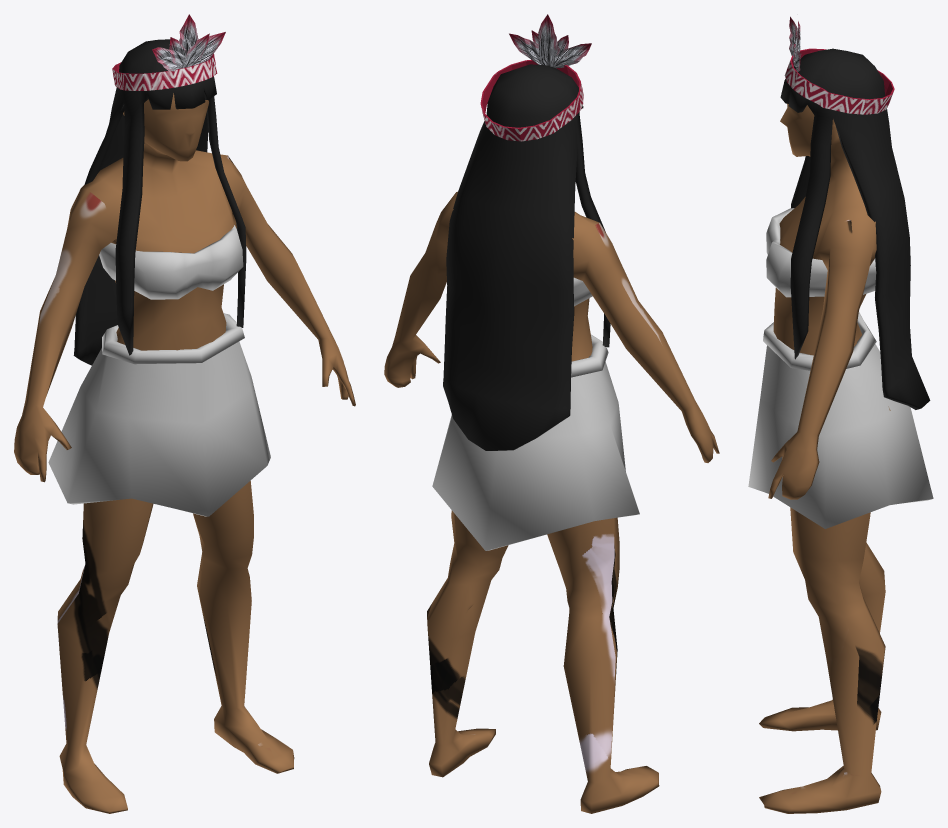
The model's file is indigena_Breninha123 (1).fbx.
3 renders of one model, left to right at view 1: azimuth 30°, elevation 25°; view 2: azimuth 150°, elevation 25°; view 3: azimuth 270°, elevation 25°, orthographic.
Visible parts, largest first — view 1: female, Cylinder, Esfera UV, female.001, Cilindro; view 2: Esfera UV, female, Cylinder, Cilindro, Plano.004; view 3: female, Esfera UV, Cylinder, female.001, Cilindro.
Boxes of the visible parts, x1,y1,x2,y2 form: female: [14, 93, 355, 813]; Cylinder: [48, 313, 270, 516]; Esfera UV: [73, 39, 246, 365]; female.001: [99, 225, 243, 299]; Cilindro: [112, 54, 217, 90]; Esfera UV: [443, 64, 610, 450]; female: [384, 191, 719, 813]; Cylinder: [432, 334, 639, 550]; Cilindro: [480, 59, 583, 141]; Plano.004: [538, 14, 559, 67]; female: [759, 103, 890, 813]; Esfera UV: [780, 48, 930, 409]; Cylinder: [748, 312, 933, 528]; female.001: [766, 208, 876, 297]; Cilindro: [784, 48, 894, 114].
Size of the model in its own units: 138 by 305 by 68.1.
